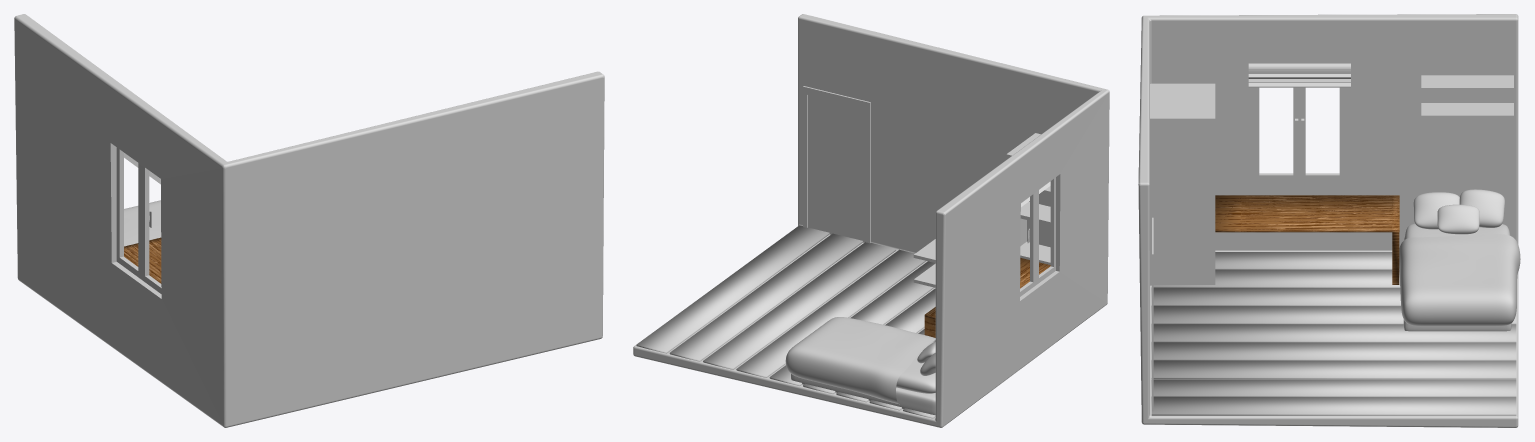
File: NewRoomModels.fbx
3 renders of one model, left to right at view 1: azimuth 30°, elevation 25°; view 2: azimuth 150°, elevation 25°; view 3: azimuth 270°, elevation 25°, orthographic. The views are drawn at different scales.
Parts seen in each view (by area): view 1: CozyRoom, Windown, Coberta, MesaDeEstudo; view 2: CozyRoom, Wood Floor, Coberta, Porta, Portal, RealEstante, Windown, BaseCama, Colchao, MesaDeEstudo, Plateleira; view 3: CozyRoom, Wood Floor, RealEstante, Coberta, MesaDeEstudo, Plateleira, Windown, PersianaParteRetratil, Travesseiro1, Travesseiro3, Persianas, Travesseiro2 (+3 smaller).
Part boxes in pixels (x1,y1,x2,y2): CozyRoom: (14,14,604,427); Windown: (116,147,161,293); Coberta: (124,200,161,245); MesaDeEstudo: (124,237,161,283); CozyRoom: (633,14,1109,427); Wood Floor: (636,225,935,418); Coberta: (785,317,935,404); Porta: (808,95,865,241); Portal: (803,86,870,243); RealEstante: (1006,133,1050,264); Windown: (1020,177,1055,296); BaseCama: (791,374,935,415); Colchao: (896,341,935,393); MesaDeEstudo: (924,258,1050,337); Plateleira: (913,239,935,287); CozyRoom: (1138,14,1518,427); Wood Floor: (1151,252,1516,415); RealEstante: (1150,83,1215,285); Coberta: (1399,234,1520,326); MesaDeEstudo: (1215,195,1399,284); Plateleira: (1421,75,1513,119); Windown: (1253,87,1345,180); PersianaParteRetratil: (1248,74,1350,87); Travesseiro1: (1459,189,1504,227); Travesseiro3: (1437,204,1479,234); Persianas: (1248,63,1350,73); Travesseiro2: (1413,192,1459,229).
Size of the model in its own units: 315 by 211 by 298.
1 material, 1 textured.
